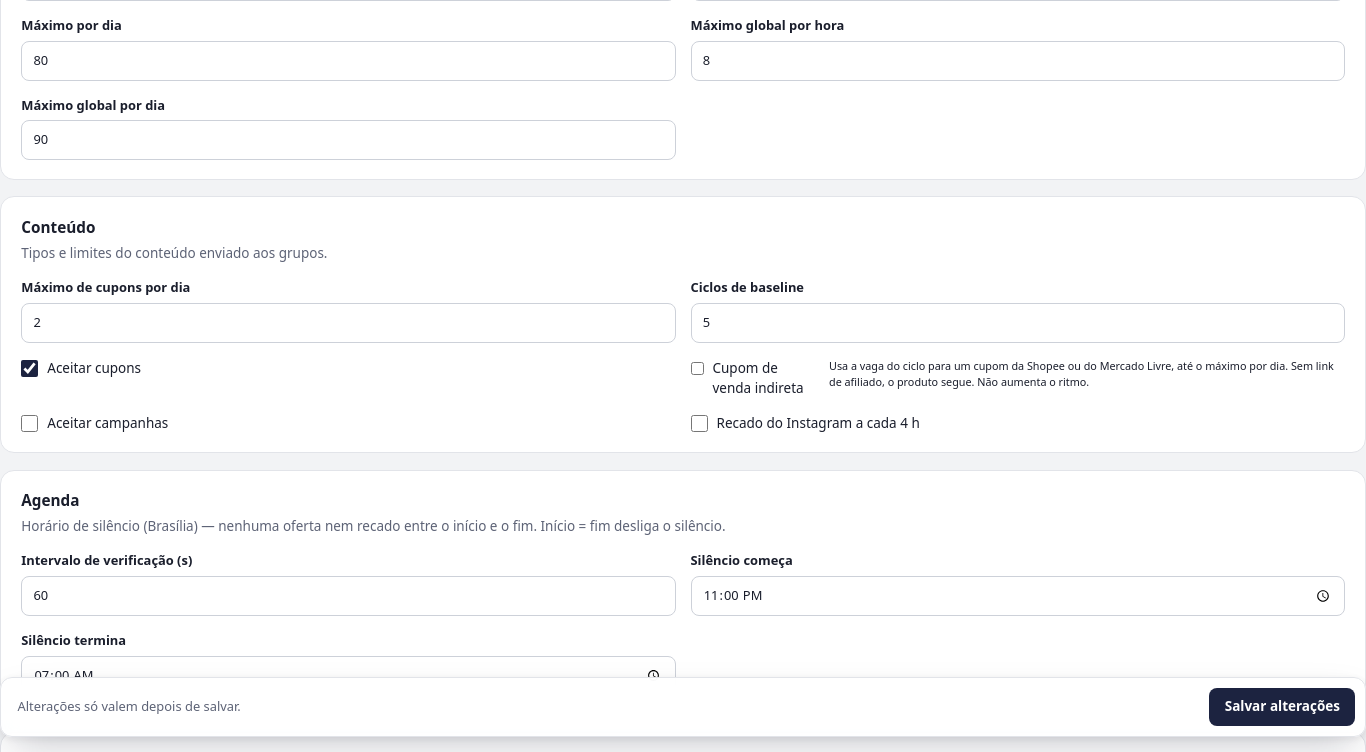
Test: liga o cupom de venda indireta sem mudar o padrão desligado
(page scrolled)
Click the checkbox labelled "Cupom de venda indireta".
click(697, 368)  # box [690,360,704,377]
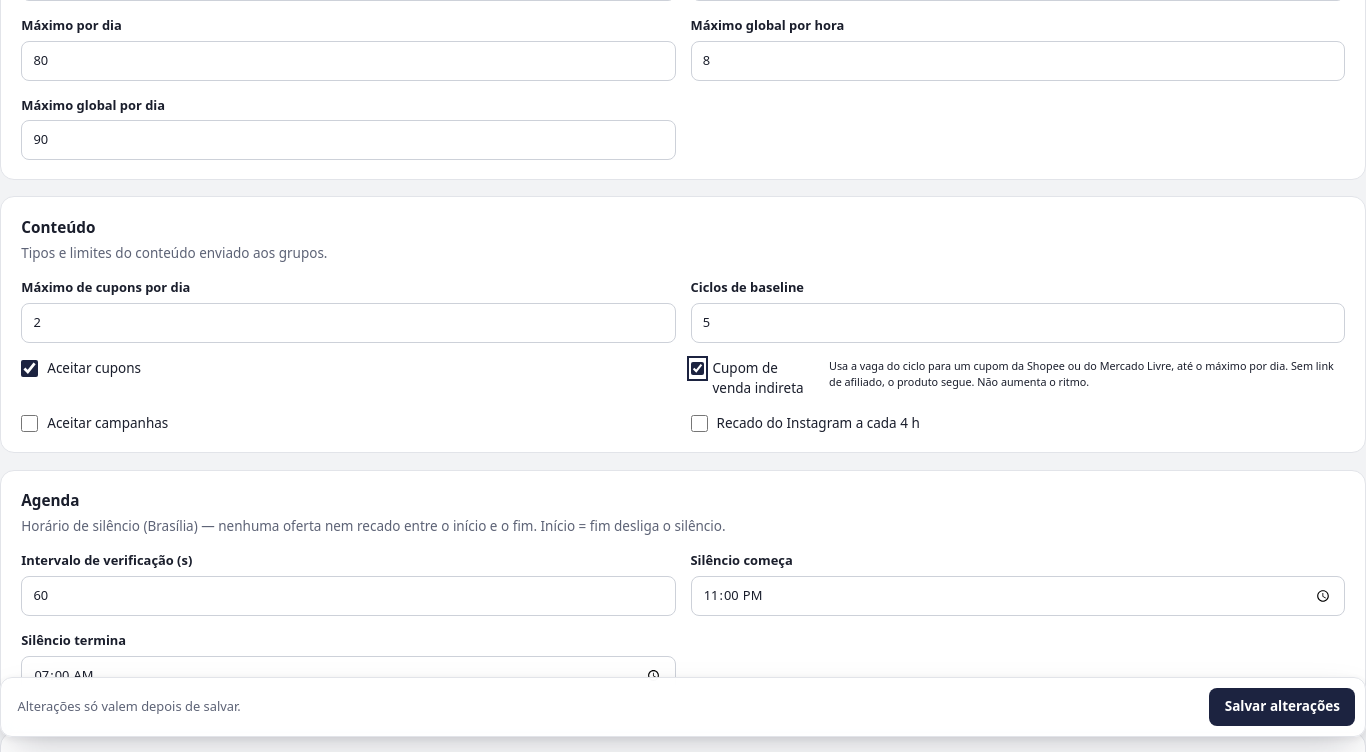
Click the button "Salvar alterações".
click(1282, 707)  # box [1210,688,1355,726]
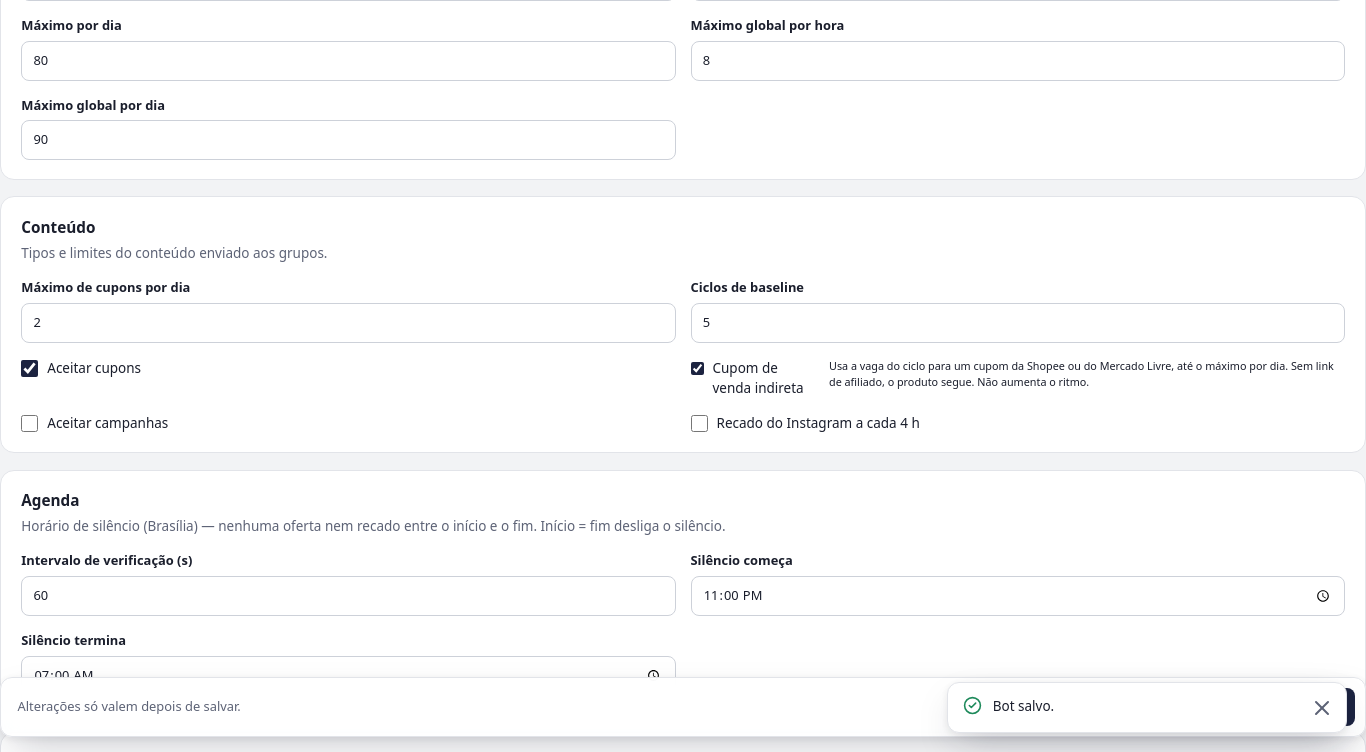
Expected: the text "Bot salvo." is shown, [993,696,1054,714]
